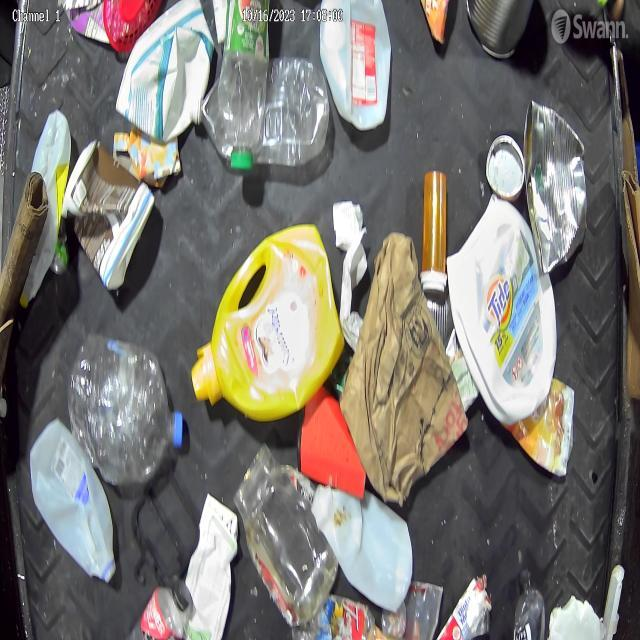milk_jug: (28, 416, 114, 580), (311, 477, 413, 606), (322, 0, 392, 125)
non_white_jug: (194, 219, 340, 414)
plastic_bottle: (70, 332, 184, 479), (190, 46, 326, 168), (220, 4, 270, 159)
